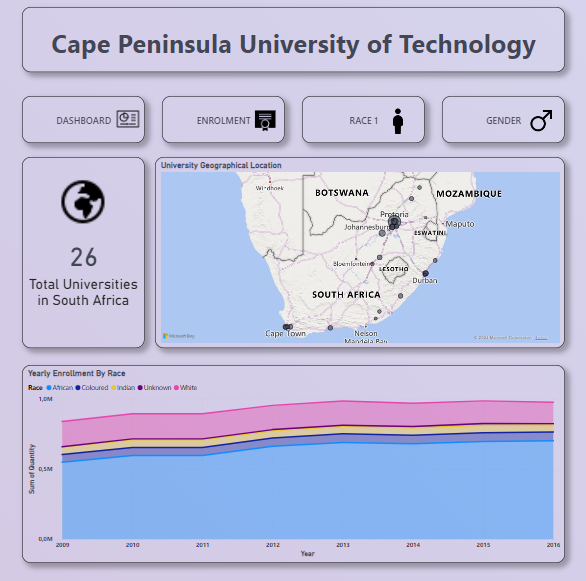

The dashboard page shown, as its layout file describes it:
{"tool":"powerbi","page":{"name":"Race 2","canvas":[1200,1200],"ordinal":3},"visuals":[{"type":"stackedAreaChart","title":"Yearly Enrollment By Race","fields":{"Category":["Race.Year"],"Y":["Sum(Race.Quantity)"],"Series":["Race.Race"]},"box":[44,754,1108,404],"z":0},{"type":"map","title":"University Geographical Location","fields":{"Category":["Race.University Name "],"Size":["Sum(Race.Total)"]},"box":[316,328,836,390],"z":1000},{"type":"card","fields":{"Values":["Count(Race.University Name )"]},"box":[44,328,250,390],"z":2000},{"type":"cardVisual","fields":{"Data":["Min(Race.University Name )"]},"box":[45,22.5,1107.5,132.5],"z":3000},{"type":"actionButton","box":[902,204,250,96],"z":4000},{"type":"actionButton","box":[44,204,250,96],"z":5000},{"type":"actionButton","box":[330,204,250,96],"z":6000},{"type":"actionButton","box":[616,204,250,96],"z":7000},{"type":"textbox","box":[44,566,250,130],"z":8000},{"type":"image","box":[110,347.5,117.5,145],"z":9000},{"type":"image","box":[228.3,223.3,65,56.7],"z":9001},{"type":"image","box":[515,228.3,53.3,51.7],"z":9002},{"type":"image","box":[776.7,223.3,68.3,66.7],"z":9003},{"type":"image","box":[1073.3,223.3,61.7,63.3],"z":9004}]}

Visuals, with their boxes in screenshot pixels (x1, y1, x2, y2), scaled from the page's 1200x1200 canvas onto the 586x581 screenshot:
"Yearly Enrollment By Race" stackedAreaChart: (left=21, top=365, right=563, bottom=561)
"University Geographical Location" map: (left=154, top=159, right=563, bottom=348)
card - Count(Race.University Name ): (left=21, top=159, right=144, bottom=348)
cardVisual - Min(Race.University Name ): (left=22, top=11, right=563, bottom=75)
actionButton: (left=440, top=99, right=563, bottom=145)
actionButton: (left=21, top=99, right=144, bottom=145)
actionButton: (left=161, top=99, right=283, bottom=145)
actionButton: (left=301, top=99, right=423, bottom=145)
textbox: (left=21, top=274, right=144, bottom=337)
image: (left=54, top=168, right=111, bottom=238)
image: (left=111, top=108, right=143, bottom=136)
image: (left=251, top=111, right=278, bottom=136)
image: (left=379, top=108, right=413, bottom=140)
image: (left=524, top=108, right=554, bottom=139)
